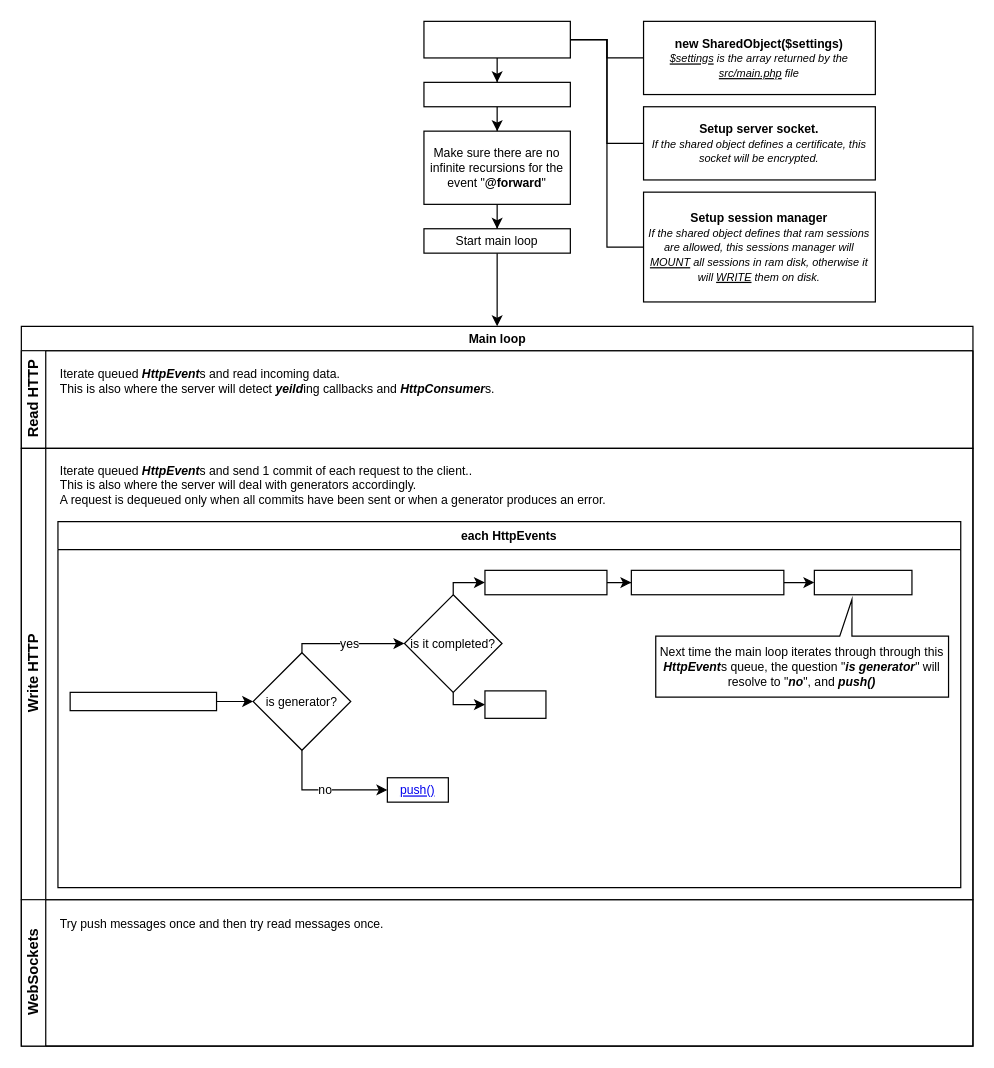
The diagram is 994 pixels wide and 1068 high, and some of its shapes have lost their labels. The centre of each missing label's shape, as x and y in pixels:
"$server->listen()" belongs at (x=496, y=94).
"convert value into commits" belongs at (x=707, y=582).
"get returned value" belongs at (x=545, y=582).
"hide generator" belongs at (x=862, y=582).
"HttpEvent $e" belongs at (x=143, y=701).
"new CatPaw($settings)" belongs at (x=496, y=39).
"next()" belongs at (x=515, y=704).
